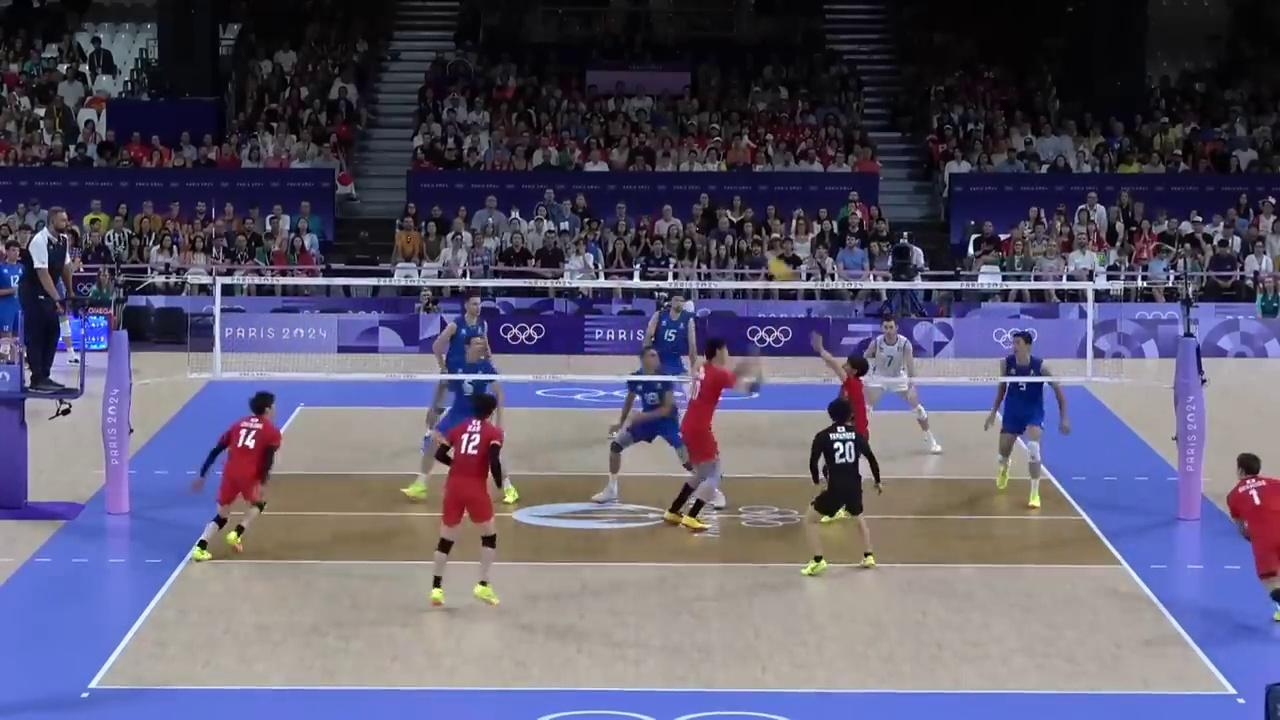ball: (765, 257, 796, 279)
